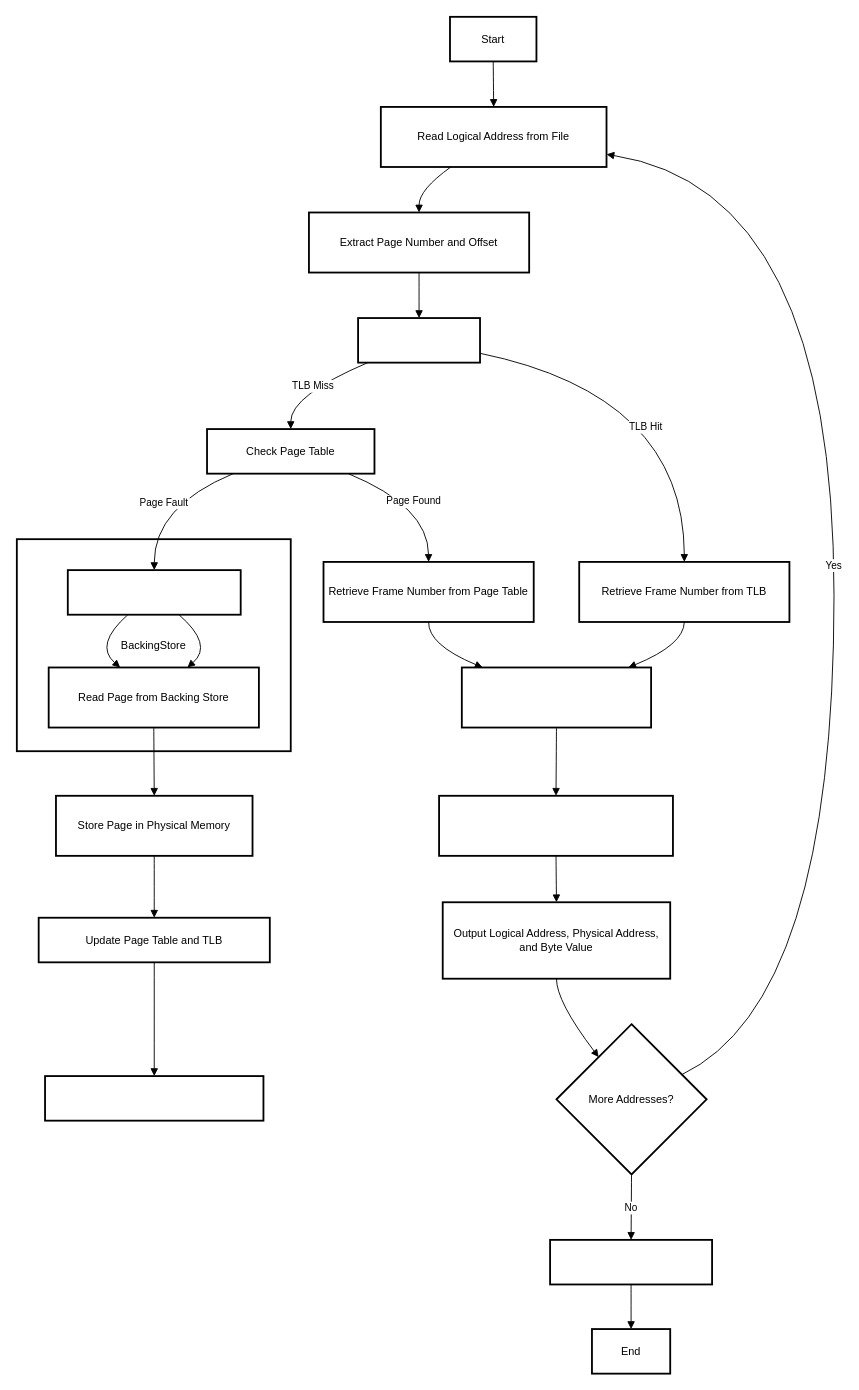
Image size: 859x1390. Some labels were removed from this diagram. The centre of each missing label's shape, as x and y in pixels:
"Check TLB" goes at (418,340).
"Handle Page Fault" goes at (153,592).
"Report Statistics" goes at (631,1262).
"Retrieve Byte from Physical Memory" goes at (555,825).
"Retry Address Translation" goes at (154,1098).
"Translate to Physical Address" goes at (556,697).
